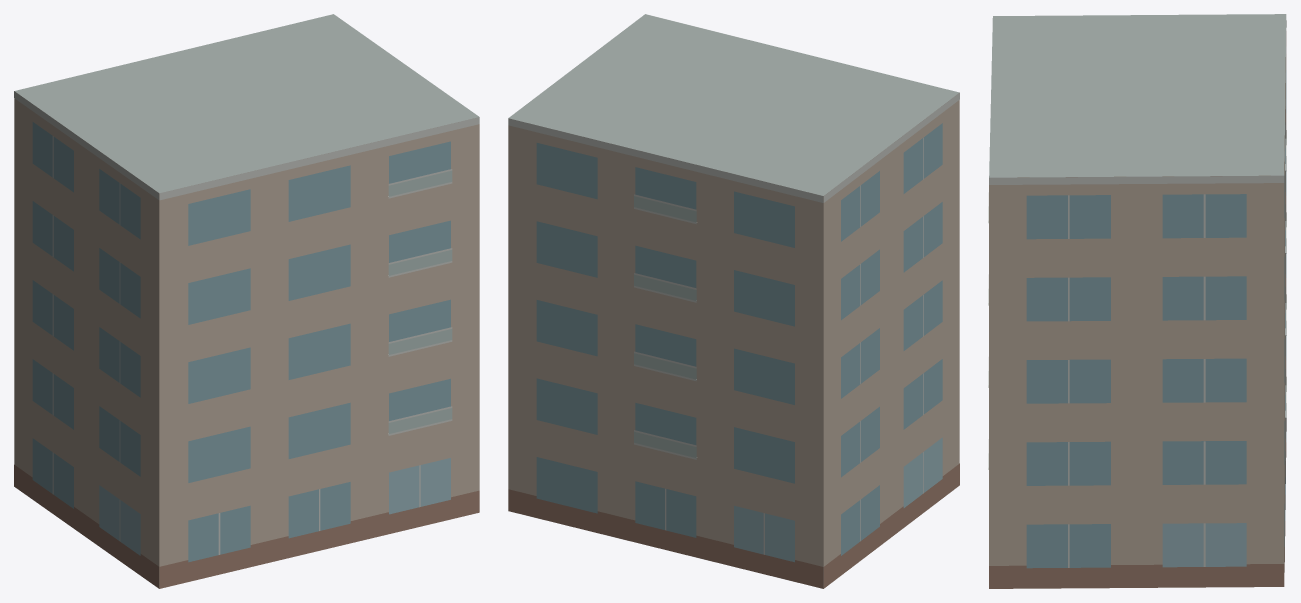
File: survey-upis-32532537.glb
3 views of the same model, side by side, from view 1: azimuth 30°, elevation 25°; view 2: azimuth 150°, elevation 25°; view 3: azimuth 270°, elevation 25° (orthographic). The views are drawn at different scales.
Parts seen in each view (by area): view 1: survey-upis-32532537.tmp; view 2: survey-upis-32532537.tmp; view 3: survey-upis-32532537.tmp.
Boxes of the visible parts, x1,y1,x2,y2 form: survey-upis-32532537.tmp: [14, 14, 479, 588]; survey-upis-32532537.tmp: [508, 14, 959, 588]; survey-upis-32532537.tmp: [988, 14, 1286, 588].
Bounding box in the file's own units: 11.57 × 13.55 × 8.92.
